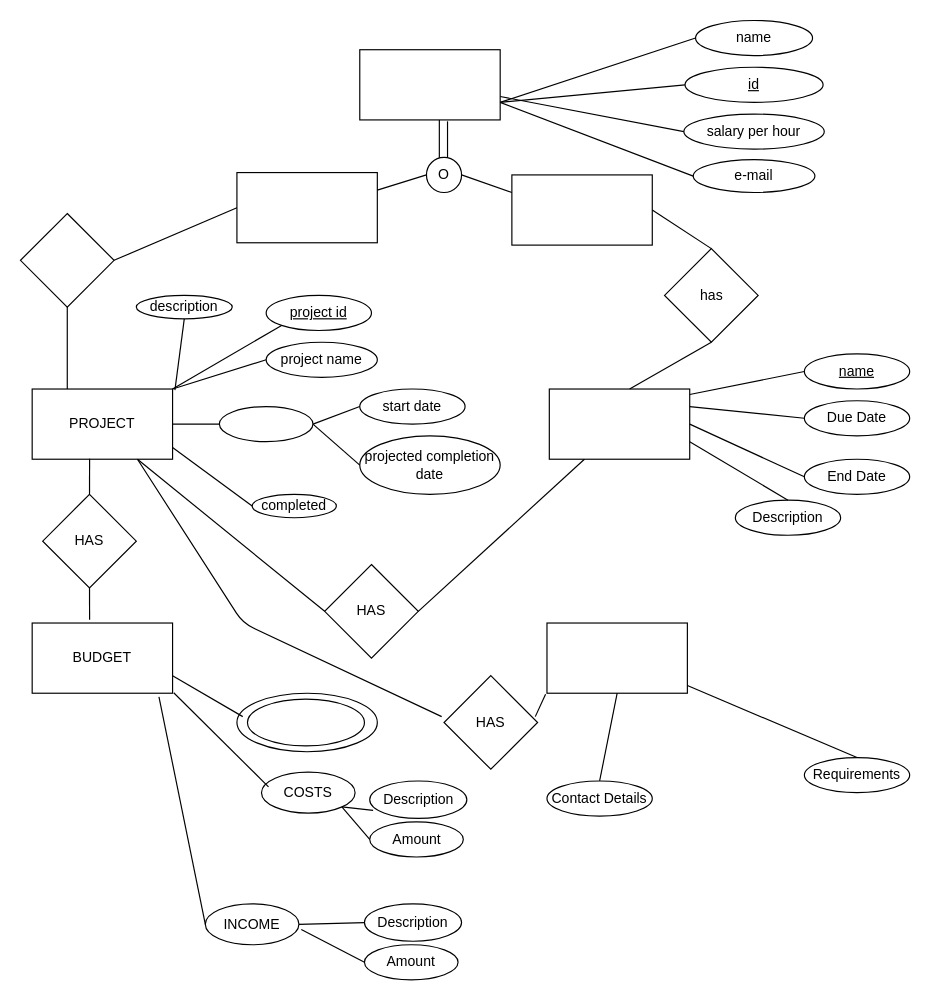
Some shapes in this 930 by 1000 pixel diagram are drawn without their labels. Here are the shapes that lost their labels. From the top down, the centre of each, then its label:
At [429,84]: "STAFF".
At [306,207]: "PROJECT MANAGER".
At [581,209]: "TEAM MEMBER".
At [66,259]: "MANAGES".
At [265,423]: "date".
At [619,423]: "TASK".
At [616,657]: "CLIENT".
At [305,722]: "RESULT".
